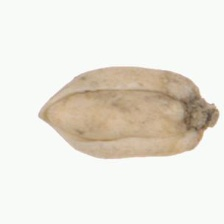L1: (176, 81, 220, 136), (34, 91, 68, 137)
L2: (36, 66, 220, 159)
